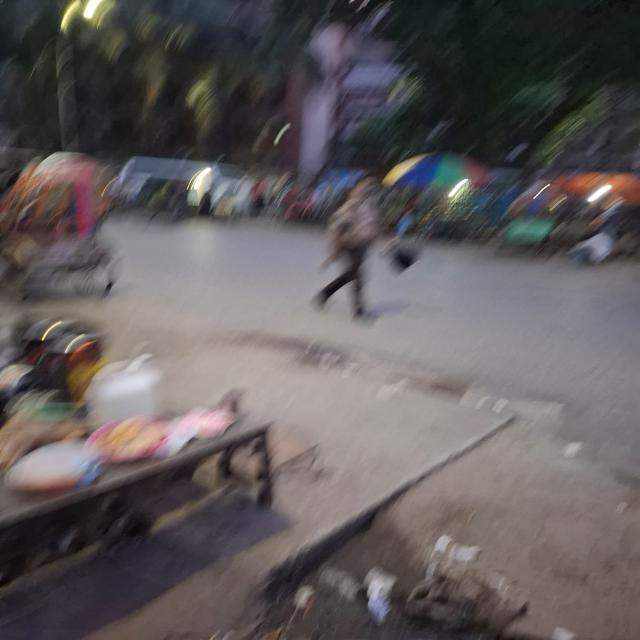person: (315, 177, 381, 319)
